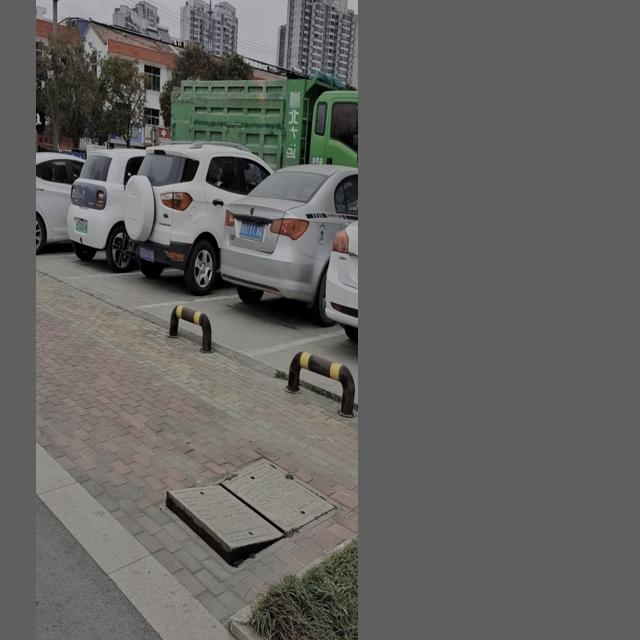uncovered: (164, 458, 339, 568)
